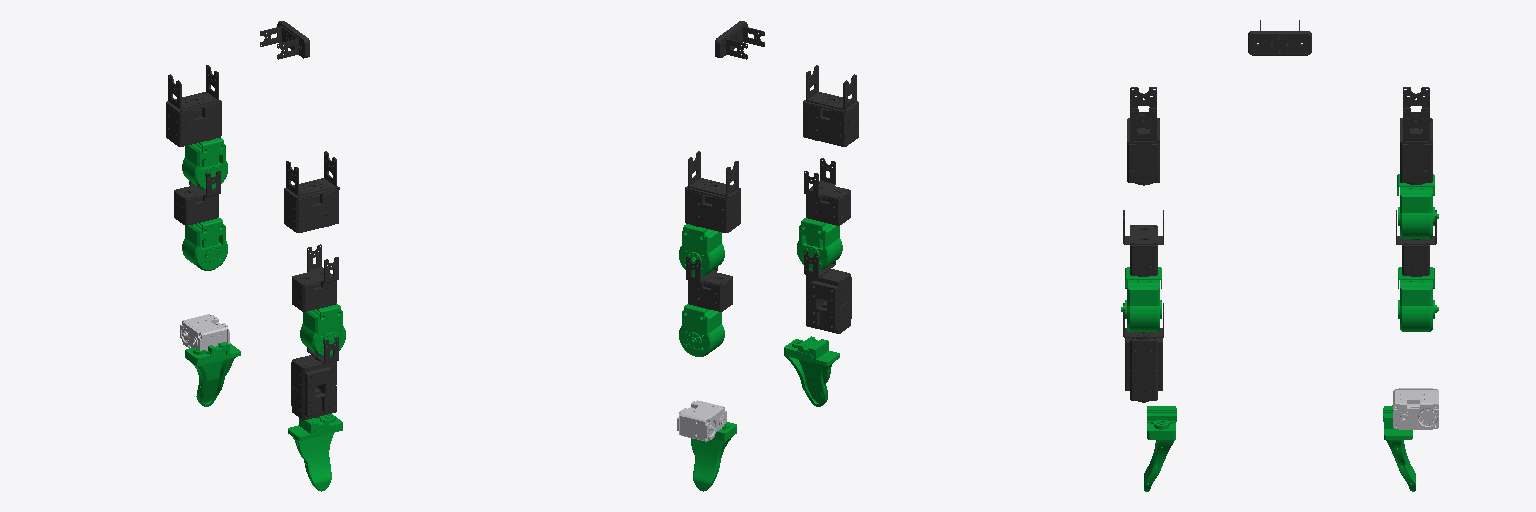
robot.urdf — dual_arm_robot:
<?xml version="1.0"?>
<robot name="dual_arm_robot">

  <material name="black">  <color rgba="0.24 0.24 0.24 1.0"/></material>
  <material name="green">  <color rgba="0.05 0.65 0.25 1.0"/></material>
  <material name="gray">   <color rgba="0.55 0.55 0.55 1.0"/></material>
  <material name="silver"> <color rgba="0.80 0.80 0.82 1.0"/></material>
  <material name="orange"> <color rgba="0.95 0.55 0.10 1.0"/></material>
  <material name="blue">   <color rgba="0.10 0.30 0.85 1.0"/></material>

  <link name="base_footprint"/>
  <link name="base_link">
    <visual>
      <origin xyz="0 0 0" rpy="0 0 0"/>
      <geometry><mesh filename="meshes/base_link.stl" scale="0.001 0.001 0.001"/></geometry>
      <material name="black"/>
    </visual>
    <collision>
      <origin xyz="0 0 0" rpy="0 0 0"/>
      <geometry><mesh filename="meshes/base_link.stl" scale="0.001 0.001 0.001"/></geometry>
    </collision>
    <inertial>
      <mass value="2"/>
      <origin xyz="0 0 0" rpy="0 0 0"/>
      <inertia ixx="0.013683" iyy="0.0137122" izz="0.00255217" ixy="0" ixz="0" iyz="0"/>
    </inertial>
  </link>
  <joint name="base_footprint_to_base" type="fixed">
    <parent link="base_footprint"/>
    <child link="base_link"/>
    <origin xyz="0 0 0" rpy="0 0 0"/>
  </joint>
  <link name="torso_link">
    <visual>
      <origin xyz="0 0 0" rpy="0 0 0"/>
      <geometry><mesh filename="meshes/torso_link.stl" scale="0.001 0.001 0.001"/></geometry>
      <material name="black"/>
    </visual>
    <collision>
      <origin xyz="0 0 0" rpy="0 0 0"/>
      <geometry><mesh filename="meshes/torso_link.stl" scale="0.001 0.001 0.001"/></geometry>
    </collision>
    <inertial>
      <mass value="1.8"/>
      <origin xyz="0 0 0" rpy="0 0 0"/>
      <inertia ixx="0.0163086" iyy="0.0133106" izz="0.00526875" ixy="0" ixz="0" iyz="0"/>
    </inertial>
  </link>
  <joint name="waist_joint" type="revolute">
    <parent link="base_link"/>
    <child link="torso_link"/>
    <origin xyz="0 0 0.2615" rpy="0 0 0"/>
    <axis xyz="0 0 1"/>
    <limit lower="-3" upper="3" effort="10" velocity="2"/>
  </joint>
  <link name="neck_pan_link">
    <visual>
      <origin xyz="0 0 0" rpy="0 0 0"/>
      <geometry><mesh filename="meshes/neck_pan_link.stl" scale="0.001 0.001 0.001"/></geometry>
      <material name="black"/>
    </visual>
    <collision>
      <origin xyz="0 0 0" rpy="0 0 0"/>
      <geometry><mesh filename="meshes/neck_pan_link.stl" scale="0.001 0.001 0.001"/></geometry>
    </collision>
    <inertial>
      <mass value="0.1"/>
      <origin xyz="0 0 0" rpy="0 0 0"/>
      <inertia ixx="2.45017e-05" iyy="2.75391e-05" izz="3.30001e-05" ixy="0" ixz="0" iyz="0"/>
    </inertial>
  </link>
  <joint name="neck_pan_joint" type="revolute">
    <parent link="torso_link"/>
    <child link="neck_pan_link"/>
    <origin xyz="0 0 0.2805" rpy="0 0 0"/>
    <axis xyz="0 0 1"/>
    <limit lower="-2" upper="2" effort="3" velocity="3"/>
  </joint>
  <link name="neck_tilt_link">
    <visual>
      <origin xyz="0 0 0" rpy="0 0 0"/>
      <geometry><mesh filename="meshes/neck_tilt_link.stl" scale="0.001 0.001 0.001"/></geometry>
      <material name="black"/>
    </visual>
    <collision>
      <origin xyz="0 0 0" rpy="0 0 0"/>
      <geometry><mesh filename="meshes/neck_tilt_link.stl" scale="0.001 0.001 0.001"/></geometry>
    </collision>
    <inertial>
      <mass value="0.1"/>
      <origin xyz="0 0 0" rpy="0 0 0"/>
      <inertia ixx="4.04167e-05" iyy="1.72417e-05" izz="4.72417e-05" ixy="0" ixz="0" iyz="0"/>
    </inertial>
  </link>
  <joint name="neck_tilt_joint" type="revolute">
    <parent link="neck_pan_link"/>
    <child link="neck_tilt_link"/>
    <origin xyz="0.024 0 0.0195" rpy="0 0 0"/>
    <axis xyz="0 1 0"/>
    <limit lower="-1" upper="1" effort="3" velocity="3"/>
  </joint>
  <link name="camera_link">
    <visual>
      <origin xyz="0 0 0" rpy="0 0 0"/>
      <geometry><mesh filename="meshes/camera_link.stl" scale="0.001 0.001 0.001"/></geometry>
      <material name="gray"/>
    </visual>
    <collision>
      <origin xyz="0 0 0" rpy="0 0 0"/>
      <geometry><mesh filename="meshes/camera_link.stl" scale="0.001 0.001 0.001"/></geometry>
    </collision>
    <inertial>
      <mass value="0.05"/>
      <origin xyz="0 0 0" rpy="0 0 0"/>
      <inertia ixx="3.63542e-05" iyy="5.20833e-06" izz="3.63542e-05" ixy="0" ixz="0" iyz="0"/>
    </inertial>
  </link>
  <joint name="camera_fixed" type="fixed">
    <parent link="neck_tilt_link"/>
    <child link="camera_link"/>
    <origin xyz="0.05625 0 0" rpy="0 0 0"/>
  </joint>
  <link name="camera_optical_frame"/>
  <joint name="camera_optical_fixed" type="fixed">
    <parent link="camera_link"/>
    <child link="camera_optical_frame"/>
    <origin xyz="0 0 0" rpy="-1.5708 0 -1.5708"/>
  </joint>

  <!-- ===== LEFT ARM ===== -->
  <link name="L_shoulder_mount"/>
  <joint name="L_shoulder_mount_fixed" type="fixed">
    <parent link="torso_link"/>
    <child link="L_shoulder_mount"/>
    <origin xyz="0 0.0715 0.21" rpy="0 0 0"/>
  </joint>
  <link name="L_link1">
    <visual>
      <origin xyz="0 0 0" rpy="0 0 0"/>
      <geometry><mesh filename="meshes/L_link1.stl" scale="0.001 0.001 0.001"/></geometry>
      <material name="green"/>
    </visual>
    <collision>
      <origin xyz="0 0 0" rpy="0 0 0"/>
      <geometry><mesh filename="meshes/L_link1.stl" scale="0.001 0.001 0.001"/></geometry>
    </collision>
    <inertial>
      <mass value="0.165"/>
      <origin xyz="0 0 0" rpy="0 0 0"/>
      <inertia ixx="0.000160346" iyy="9.37308e-05" izz="0.000161663" ixy="0" ixz="0" iyz="0"/>
    </inertial>
  </link>
  <joint name="L_joint1" type="revolute">
    <parent link="L_shoulder_mount"/>
    <child link="L_link1"/>
    <origin xyz="0 0 0" rpy="0 0 0"/>
    <axis xyz="0 1 0"/>
    <limit lower="-2.6" upper="2.6" effort="6" velocity="3"/>
  </joint>
  <link name="L_link2">
    <visual>
      <origin xyz="0 0 0" rpy="0 0 0"/>
      <geometry><mesh filename="meshes/L_link2.stl" scale="0.001 0.001 0.001"/></geometry>
      <material name="black"/>
    </visual>
    <collision>
      <origin xyz="0 0 0" rpy="0 0 0"/>
      <geometry><mesh filename="meshes/L_link2.stl" scale="0.001 0.001 0.001"/></geometry>
    </collision>
    <inertial>
      <mass value="0.165"/>
      <origin xyz="0 0 0" rpy="0 0 0"/>
      <inertia ixx="0.000128171" iyy="0.000159796" izz="6.24869e-05" ixy="0" ixz="0" iyz="0"/>
    </inertial>
  </link>
  <joint name="L_joint2" type="revolute">
    <parent link="L_link1"/>
    <child link="L_link2"/>
    <origin xyz="0 0.06725 0" rpy="0 0 0"/>
    <axis xyz="1 0 0"/>
    <limit lower="-2.6" upper="2.6" effort="6" velocity="3"/>
  </joint>
  <link name="L_link3">
    <visual>
      <origin xyz="0 0 0" rpy="0 0 0"/>
      <geometry><mesh filename="meshes/L_link3.stl" scale="0.001 0.001 0.001"/></geometry>
      <material name="green"/>
    </visual>
    <collision>
      <origin xyz="0 0 0" rpy="0 0 0"/>
      <geometry><mesh filename="meshes/L_link3.stl" scale="0.001 0.001 0.001"/></geometry>
    </collision>
    <inertial>
      <mass value="0.2"/>
      <origin xyz="0 0 0" rpy="0 0 0"/>
      <inertia ixx="9.84487e-05" iyy="0.000103469" izz="6.55127e-05" ixy="0" ixz="0" iyz="0"/>
    </inertial>
  </link>
  <joint name="L_joint3" type="revolute">
    <parent link="L_link2"/>
    <child link="L_link3"/>
    <origin xyz="0.0155 0 -0.0825" rpy="0 0 0"/>
    <axis xyz="0 0 1"/>
    <limit lower="-2.6" upper="2.6" effort="6" velocity="3"/>
  </joint>
  <link name="L_link4">
    <visual>
      <origin xyz="0 0 0" rpy="0 0 0"/>
      <geometry><mesh filename="meshes/L_link4.stl" scale="0.001 0.001 0.001"/></geometry>
      <material name="black"/>
    </visual>
    <collision>
      <origin xyz="0 0 0" rpy="0 0 0"/>
      <geometry><mesh filename="meshes/L_link4.stl" scale="0.001 0.001 0.001"/></geometry>
    </collision>
    <inertial>
      <mass value="0.082"/>
      <origin xyz="0 0 0" rpy="0 0 0"/>
      <inertia ixx="4.60619e-05" iyy="4.91252e-05" izz="2.64874e-05" ixy="0" ixz="0" iyz="0"/>
    </inertial>
  </link>
  <joint name="L_joint4" type="revolute">
    <parent link="L_link3"/>
    <child link="L_link4"/>
    <origin xyz="0 0 -0.041" rpy="0 0 0"/>
    <axis xyz="0 1 0"/>
    <limit lower="-2.6" upper="2.6" effort="6" velocity="3"/>
  </joint>
  <link name="L_link5">
    <visual>
      <origin xyz="0 0 0" rpy="0 0 0"/>
      <geometry><mesh filename="meshes/L_link5.stl" scale="0.001 0.001 0.001"/></geometry>
      <material name="green"/>
    </visual>
    <collision>
      <origin xyz="0 0 0" rpy="0 0 0"/>
      <geometry><mesh filename="meshes/L_link5.stl" scale="0.001 0.001 0.001"/></geometry>
    </collision>
    <inertial>
      <mass value="0.15"/>
      <origin xyz="0 0 0" rpy="0 0 0"/>
      <inertia ixx="7.28275e-05" iyy="7.68055e-05" izz="4.8922e-05" ixy="0" ixz="0" iyz="0"/>
    </inertial>
  </link>
  <joint name="L_joint5" type="revolute">
    <parent link="L_link4"/>
    <child link="L_link5"/>
    <origin xyz="0 0 -0.064" rpy="0 0 0"/>
    <axis xyz="0 0 1"/>
    <limit lower="-2.6" upper="2.6" effort="6" velocity="3"/>
  </joint>
  <link name="L_link6">
    <visual>
      <origin xyz="0 0 0" rpy="0 0 0"/>
      <geometry><mesh filename="meshes/L_link6.stl" scale="0.001 0.001 0.001"/></geometry>
      <material name="black"/>
    </visual>
    <collision>
      <origin xyz="0 0 0" rpy="0 0 0"/>
      <geometry><mesh filename="meshes/L_link6.stl" scale="0.001 0.001 0.001"/></geometry>
    </collision>
    <inertial>
      <mass value="0.082"/>
      <origin xyz="0 0 0" rpy="0 0 0"/>
      <inertia ixx="1.80688e-05" iyy="9.09004e-06" izz="1.44454e-05" ixy="0" ixz="0" iyz="0"/>
    </inertial>
  </link>
  <joint name="L_joint6" type="revolute">
    <parent link="L_link5"/>
    <child link="L_link6"/>
    <origin xyz="0 0 -0.0405" rpy="0 0 0"/>
    <axis xyz="0 1 0"/>
    <limit lower="-2.6" upper="2.6" effort="6" velocity="3"/>
  </joint>
  <link name="L_link7">
    <visual>
      <origin xyz="0 0 0" rpy="0 0 0"/>
      <geometry><mesh filename="meshes/L_link7.stl" scale="0.001 0.001 0.001"/></geometry>
      <material name="black"/>
    </visual>
    <collision>
      <origin xyz="0 0 0" rpy="0 0 0"/>
      <geometry><mesh filename="meshes/L_link7.stl" scale="0.001 0.001 0.001"/></geometry>
    </collision>
    <inertial>
      <mass value="0.082"/>
      <origin xyz="0 0 0" rpy="0 0 0"/>
      <inertia ixx="5.50592e-05" iyy="5.93877e-05" izz="2.52222e-05" ixy="0" ixz="0" iyz="0"/>
    </inertial>
  </link>
  <joint name="L_joint7" type="revolute">
    <parent link="L_link6"/>
    <child link="L_link7"/>
    <origin xyz="0 0 -0.028" rpy="0 0 0"/>
    <axis xyz="0 0 1"/>
    <limit lower="-2.6" upper="2.6" effort="6" velocity="3"/>
  </joint>
  <link name="L_gripper_base">
    <visual>
      <origin xyz="0 0 0" rpy="0 0 0"/>
      <geometry><mesh filename="meshes/L_gripper_base.stl" scale="0.001 0.001 0.001"/></geometry>
      <material name="silver"/>
    </visual>
    <collision>
      <origin xyz="0 0 0" rpy="0 0 0"/>
      <geometry><mesh filename="meshes/L_gripper_base.stl" scale="0.001 0.001 0.001"/></geometry>
    </collision>
    <inertial>
      <mass value="0.05"/>
      <origin xyz="0 0 0" rpy="0 0 0"/>
      <inertia ixx="9.67552e-05" iyy="2.94271e-05" izz="0.00012268" ixy="0" ixz="0" iyz="0"/>
    </inertial>
  </link>
  <joint name="L_gripper_base_fixed" type="fixed">
    <parent link="L_link7"/>
    <child link="L_gripper_base"/>
    <origin xyz="0 0 -0.07" rpy="0 0 0"/>
  </joint>
  <link name="L_finger_left">
    <visual>
      <origin xyz="0 0 0" rpy="0 0 0"/>
      <geometry><mesh filename="meshes/L_finger_left.stl" scale="0.001 0.001 0.001"/></geometry>
      <material name="green"/>
    </visual>
    <collision>
      <origin xyz="0 0 0" rpy="0 0 0"/>
      <geometry><mesh filename="meshes/L_finger_left.stl" scale="0.001 0.001 0.001"/></geometry>
    </collision>
    <inertial>
      <mass value="0.01"/>
      <origin xyz="0 0 0" rpy="0 0 0"/>
      <inertia ixx="7.49861e-06" iyy="9.67203e-06" izz="4.02824e-06" ixy="0" ixz="0" iyz="0"/>
    </inertial>
  </link>
  <joint name="L_gripper_joint" type="prismatic">
    <parent link="L_gripper_base"/>
    <child link="L_finger_left"/>
    <origin xyz="0 0.01836 -0.0205" rpy="0 0 0"/>
    <axis xyz="0 1 0"/>
    <limit lower="0" upper="0.037" effort="20" velocity="0.1"/>
  </joint>
  <link name="L_finger_right">
    <visual>
      <origin xyz="0 0 0" rpy="0 0 0"/>
      <geometry><mesh filename="meshes/L_finger_right.stl" scale="0.001 0.001 0.001"/></geometry>
      <material name="green"/>
    </visual>
    <collision>
      <origin xyz="0 0 0" rpy="0 0 0"/>
      <geometry><mesh filename="meshes/L_finger_right.stl" scale="0.001 0.001 0.001"/></geometry>
    </collision>
    <inertial>
      <mass value="0.01"/>
      <origin xyz="0 0 0" rpy="0 0 0"/>
      <inertia ixx="7.49861e-06" iyy="9.67203e-06" izz="4.02824e-06" ixy="0" ixz="0" iyz="0"/>
    </inertial>
  </link>
  <joint name="L_gripper_mimic" type="prismatic">
    <parent link="L_gripper_base"/>
    <child link="L_finger_right"/>
    <origin xyz="0 -0.01836 -0.0205" rpy="0 0 0"/>
    <axis xyz="0 1 0"/>
    <limit lower="-0.037" upper="0" effort="20" velocity="0.1"/>
    <mimic joint="L_gripper_joint" multiplier="-1" offset="0"/>
  </joint>
  <link name="L_tcp"/>
  <joint name="L_tcp_fixed" type="fixed">
    <parent link="L_gripper_base"/>
    <child link="L_tcp"/>
    <origin xyz="0 0 -0.1055" rpy="0 0 0"/>
  </joint>

  <!-- ===== RIGHT ARM ===== -->
  <link name="R_shoulder_mount"/>
  <joint name="R_shoulder_mount_fixed" type="fixed">
    <parent link="torso_link"/>
    <child link="R_shoulder_mount"/>
    <origin xyz="0 -0.0715 0.21" rpy="0 0 0"/>
  </joint>
  <link name="R_link1">
    <visual>
      <origin xyz="0 0 0" rpy="0 0 0"/>
      <geometry><mesh filename="meshes/R_link1.stl" scale="0.001 0.001 0.001"/></geometry>
      <material name="green"/>
    </visual>
    <collision>
      <origin xyz="0 0 0" rpy="0 0 0"/>
      <geometry><mesh filename="meshes/R_link1.stl" scale="0.001 0.001 0.001"/></geometry>
    </collision>
    <inertial>
      <mass value="0.165"/>
      <origin xyz="0 0 0" rpy="0 0 0"/>
      <inertia ixx="0.000160346" iyy="9.37308e-05" izz="0.000161663" ixy="0" ixz="0" iyz="0"/>
    </inertial>
  </link>
  <joint name="R_joint1" type="revolute">
    <parent link="R_shoulder_mount"/>
    <child link="R_link1"/>
    <origin xyz="0 0 0" rpy="0 0 0"/>
    <axis xyz="0 1 0"/>
    <limit lower="-2.6" upper="2.6" effort="6" velocity="3"/>
  </joint>
  <link name="R_link2">
    <visual>
      <origin xyz="0 0 0" rpy="0 0 0"/>
      <geometry><mesh filename="meshes/R_link2.stl" scale="0.001 0.001 0.001"/></geometry>
      <material name="black"/>
    </visual>
    <collision>
      <origin xyz="0 0 0" rpy="0 0 0"/>
      <geometry><mesh filename="meshes/R_link2.stl" scale="0.001 0.001 0.001"/></geometry>
    </collision>
    <inertial>
      <mass value="0.165"/>
      <origin xyz="0 0 0" rpy="0 0 0"/>
      <inertia ixx="0.000128171" iyy="0.000159796" izz="6.24869e-05" ixy="0" ixz="0" iyz="0"/>
    </inertial>
  </link>
  <joint name="R_joint2" type="revolute">
    <parent link="R_link1"/>
    <child link="R_link2"/>
    <origin xyz="0 -0.06725 0" rpy="0 0 0"/>
    <axis xyz="1 0 0"/>
    <limit lower="-2.6" upper="2.6" effort="6" velocity="3"/>
  </joint>
  <link name="R_link3">
    <visual>
      <origin xyz="0 0 0" rpy="0 0 0"/>
      <geometry><mesh filename="meshes/R_link3.stl" scale="0.001 0.001 0.001"/></geometry>
      <material name="green"/>
    </visual>
    <collision>
      <origin xyz="0 0 0" rpy="0 0 0"/>
      <geometry><mesh filename="meshes/R_link3.stl" scale="0.001 0.001 0.001"/></geometry>
    </collision>
    <inertial>
      <mass value="0.2"/>
      <origin xyz="0 0 0" rpy="0 0 0"/>
      <inertia ixx="9.84487e-05" iyy="0.000103469" izz="6.55127e-05" ixy="0" ixz="0" iyz="0"/>
    </inertial>
  </link>
  <joint name="R_joint3" type="revolute">
    <parent link="R_link2"/>
    <child link="R_link3"/>
    <origin xyz="0.0155 0 -0.0825" rpy="0 0 0"/>
    <axis xyz="0 0 1"/>
    <limit lower="-2.6" upper="2.6" effort="6" velocity="3"/>
  </joint>
  <link name="R_link4">
    <visual>
      <origin xyz="0 0 0" rpy="0 0 0"/>
      <geometry><mesh filename="meshes/R_link4.stl" scale="0.001 0.001 0.001"/></geometry>
      <material name="black"/>
    </visual>
    <collision>
      <origin xyz="0 0 0" rpy="0 0 0"/>
      <geometry><mesh filename="meshes/R_link4.stl" scale="0.001 0.001 0.001"/></geometry>
    </collision>
    <inertial>
      <mass value="0.082"/>
      <origin xyz="0 0 0" rpy="0 0 0"/>
      <inertia ixx="4.60619e-05" iyy="4.91252e-05" izz="2.64874e-05" ixy="0" ixz="0" iyz="0"/>
    </inertial>
  </link>
  <joint name="R_joint4" type="revolute">
    <parent link="R_link3"/>
    <child link="R_link4"/>
    <origin xyz="0 0 -0.041" rpy="0 0 0"/>
    <axis xyz="0 1 0"/>
    <limit lower="-2.6" upper="2.6" effort="6" velocity="3"/>
  </joint>
  <link name="R_link5">
    <visual>
      <origin xyz="0 0 0" rpy="0 0 0"/>
      <geometry><mesh filename="meshes/R_link5.stl" scale="0.001 0.001 0.001"/></geometry>
      <material name="green"/>
    </visual>
    <collision>
      <origin xyz="0 0 0" rpy="0 0 0"/>
      <geometry><mesh filename="meshes/R_link5.stl" scale="0.001 0.001 0.001"/></geometry>
    </collision>
    <inertial>
      <mass value="0.15"/>
      <origin xyz="0 0 0" rpy="0 0 0"/>
      <inertia ixx="7.28275e-05" iyy="7.68055e-05" izz="4.8922e-05" ixy="0" ixz="0" iyz="0"/>
    </inertial>
  </link>
  <joint name="R_joint5" type="revolute">
    <parent link="R_link4"/>
    <child link="R_link5"/>
    <origin xyz="0 0 -0.064" rpy="0 0 0"/>
    <axis xyz="0 0 1"/>
    <limit lower="-2.6" upper="2.6" effort="6" velocity="3"/>
  </joint>
  <link name="R_link6">
    <visual>
      <origin xyz="0 0 0" rpy="0 0 0"/>
      <geometry><mesh filename="meshes/R_link6.stl" scale="0.001 0.001 0.001"/></geometry>
      <material name="black"/>
    </visual>
    <collision>
      <origin xyz="0 0 0" rpy="0 0 0"/>
      <geometry><mesh filename="meshes/R_link6.stl" scale="0.001 0.001 0.001"/></geometry>
    </collision>
    <inertial>
      <mass value="0.082"/>
      <origin xyz="0 0 0" rpy="0 0 0"/>
      <inertia ixx="1.80688e-05" iyy="9.09004e-06" izz="1.44454e-05" ixy="0" ixz="0" iyz="0"/>
    </inertial>
  </link>
  <joint name="R_joint6" type="revolute">
    <parent link="R_link5"/>
    <child link="R_link6"/>
    <origin xyz="0 0 -0.0405" rpy="0 0 0"/>
    <axis xyz="0 1 0"/>
    <limit lower="-2.6" upper="2.6" effort="6" velocity="3"/>
  </joint>
  <link name="R_link7">
    <visual>
      <origin xyz="0 0 0" rpy="0 0 0"/>
      <geometry><mesh filename="meshes/R_link7.stl" scale="0.001 0.001 0.001"/></geometry>
      <material name="black"/>
    </visual>
    <collision>
      <origin xyz="0 0 0" rpy="0 0 0"/>
      <geometry><mesh filename="meshes/R_link7.stl" scale="0.001 0.001 0.001"/></geometry>
    </collision>
    <inertial>
      <mass value="0.082"/>
      <origin xyz="0 0 0" rpy="0 0 0"/>
      <inertia ixx="5.50592e-05" iyy="5.93877e-05" izz="2.52222e-05" ixy="0" ixz="0" iyz="0"/>
    </inertial>
  </link>
  <joint name="R_joint7" type="revolute">
    <parent link="R_link6"/>
    <child link="R_link7"/>
    <origin xyz="0 0 -0.028" rpy="0 0 0"/>
    <axis xyz="0 0 1"/>
    <limit lower="-2.6" upper="2.6" effort="6" velocity="3"/>
  </joint>
  <link name="R_gripper_base">
    <visual>
      <origin xyz="0 0 0" rpy="0 0 0"/>
      <geometry><mesh filename="meshes/R_gripper_base.stl" scale="0.001 0.001 0.001"/></geometry>
      <material name="silver"/>
    </visual>
    <collision>
      <origin xyz="0 0 0" rpy="0 0 0"/>
      <geometry><mesh filename="meshes/R_gripper_base.stl" scale="0.001 0.001 0.001"/></geometry>
    </collision>
    <inertial>
      <mass value="0.05"/>
      <origin xyz="0 0 0" rpy="0 0 0"/>
      <inertia ixx="9.67552e-05" iyy="2.94271e-05" izz="0.00012268" ixy="0" ixz="0" iyz="0"/>
    </inertial>
  </link>
  <joint name="R_gripper_base_fixed" type="fixed">
    <parent link="R_link7"/>
    <child link="R_gripper_base"/>
    <origin xyz="0 0 -0.07" rpy="0 0 0"/>
  </joint>
  <link name="R_finger_left">
    <visual>
      <origin xyz="0 0 0" rpy="0 0 0"/>
      <geometry><mesh filename="meshes/R_finger_left.stl" scale="0.001 0.001 0.001"/></geometry>
      <material name="green"/>
    </visual>
    <collision>
      <origin xyz="0 0 0" rpy="0 0 0"/>
      <geometry><mesh filename="meshes/R_finger_left.stl" scale="0.001 0.001 0.001"/></geometry>
    </collision>
    <inertial>
      <mass value="0.01"/>
      <origin xyz="0 0 0" rpy="0 0 0"/>
      <inertia ixx="7.49861e-06" iyy="9.67203e-06" izz="4.02824e-06" ixy="0" ixz="0" iyz="0"/>
    </inertial>
  </link>
  <joint name="R_gripper_joint" type="prismatic">
    <parent link="R_gripper_base"/>
    <child link="R_finger_left"/>
    <origin xyz="0 0.01836 -0.0205" rpy="0 0 0"/>
    <axis xyz="0 1 0"/>
    <limit lower="0" upper="0.037" effort="20" velocity="0.1"/>
  </joint>
  <link name="R_finger_right">
    <visual>
      <origin xyz="0 0 0" rpy="0 0 0"/>
      <geometry><mesh filename="meshes/R_finger_right.stl" scale="0.001 0.001 0.001"/></geometry>
      <material name="green"/>
    </visual>
    <collision>
      <origin xyz="0 0 0" rpy="0 0 0"/>
      <geometry><mesh filename="meshes/R_finger_right.stl" scale="0.001 0.001 0.001"/></geometry>
    </collision>
    <inertial>
      <mass value="0.01"/>
      <origin xyz="0 0 0" rpy="0 0 0"/>
      <inertia ixx="7.49861e-06" iyy="9.67203e-06" izz="4.02824e-06" ixy="0" ixz="0" iyz="0"/>
    </inertial>
  </link>
  <joint name="R_gripper_mimic" type="prismatic">
    <parent link="R_gripper_base"/>
    <child link="R_finger_right"/>
    <origin xyz="0 -0.01836 -0.0205" rpy="0 0 0"/>
    <axis xyz="0 1 0"/>
    <limit lower="-0.037" upper="0" effort="20" velocity="0.1"/>
    <mimic joint="R_gripper_joint" multiplier="-1" offset="0"/>
  </joint>
  <link name="R_tcp"/>
  <joint name="R_tcp_fixed" type="fixed">
    <parent link="R_gripper_base"/>
    <child link="R_tcp"/>
    <origin xyz="0 0 -0.1055" rpy="0 0 0"/>
  </joint>

</robot>

--- Render facts (derived) ---
3 views of the same robot in one strip: view 1: azimuth 30°, elevation 25°; view 2: azimuth 150°, elevation 25°; view 3: azimuth 270°, elevation 25° (orthographic).
Model dual_arm_robot with 31 links and 30 joints (17 revolute, 4 prismatic, 9 fixed), rooted at base_footprint, posed every joint at zero.
Links seen in each view (by area): view 1: L_link2, R_link2, R_link7, R_finger_left, R_link4, L_finger_right, L_link5, L_link4, L_link3, R_link5, L_gripper_base, neck_tilt_link; view 2: R_link2, L_link2, R_link7, R_finger_left, R_link4, L_link5, L_link4, R_link5, L_link3, L_finger_right, L_gripper_base, neck_tilt_link; view 3: R_link2, L_link2, R_link7, L_link5, R_link5, L_link3, L_gripper_base, R_finger_left, R_link4, neck_tilt_link, L_link4, L_finger_right.
Boxes of the visible links, <box> form: L_link2: <box>166,65,221,146</box>; R_link2: <box>284,151,339,232</box>; R_link7: <box>291,355,336,419</box>; R_finger_left: <box>288,414,342,491</box>; R_link4: <box>292,244,338,311</box>; L_finger_right: <box>185,342,240,406</box>; L_link5: <box>182,217,227,270</box>; L_link4: <box>174,171,220,225</box>; L_link3: <box>182,138,227,189</box>; R_link5: <box>300,303,345,356</box>; L_gripper_base: <box>180,314,229,350</box>; neck_tilt_link: <box>260,21,309,59</box>; R_link2: <box>803,65,858,146</box>; L_link2: <box>685,151,740,232</box>; R_link7: <box>806,269,851,333</box>; R_finger_left: <box>784,336,839,406</box>; R_link4: <box>804,158,850,225</box>; L_link5: <box>679,304,724,356</box>; L_link4: <box>686,257,732,311</box>; R_link5: <box>797,218,842,270</box>; L_link3: <box>679,224,724,276</box>; L_finger_right: <box>691,422,736,491</box>; L_gripper_base: <box>677,400,726,441</box>; neck_tilt_link: <box>715,21,764,59</box>; R_link2: <box>1127,87,1159,185</box>; L_link2: <box>1400,87,1432,184</box>; R_link7: <box>1125,328,1162,402</box>; L_link5: <box>1398,267,1438,331</box>; R_link5: <box>1121,267,1161,331</box>; L_link3: <box>1397,174,1438,238</box>; L_gripper_base: <box>1393,388,1438,429</box>; R_finger_left: <box>1144,406,1176,491</box>; R_link4: <box>1123,210,1163,276</box>; neck_tilt_link: <box>1248,20,1311,55</box>; L_link4: <box>1396,210,1436,276</box>; L_finger_right: <box>1383,405,1415,491</box>.
Size in the robot's own frame: 0.0888 by 0.3243 by 0.5345 metres.
13 mesh visuals loaded from 25 distinct referenced files (13 binary STL); not drawn: 12 (reference not matched to a file when rendering).
